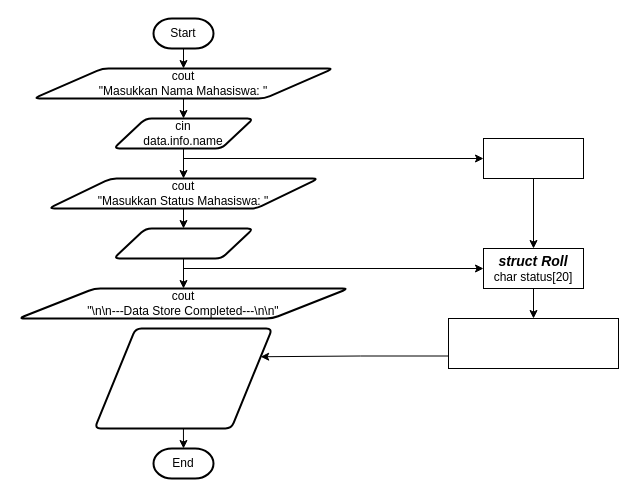
Some shapes in this 636 by 496 pixel diagram are drawn without their labels. The centre of each missing label's shape, as x and y in pixels:
cin data.roll.status: point 183,243
cout "Name: " data.info.name "\nStatus: " data.roll.status: point 183,378
struct Name char name[20]: point 533,158
struct Student struct Name info; struct Roll roll;: point 533,343
